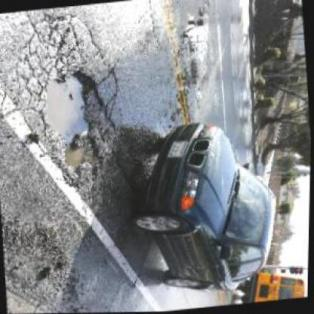Hueco: (40, 70, 111, 182)
